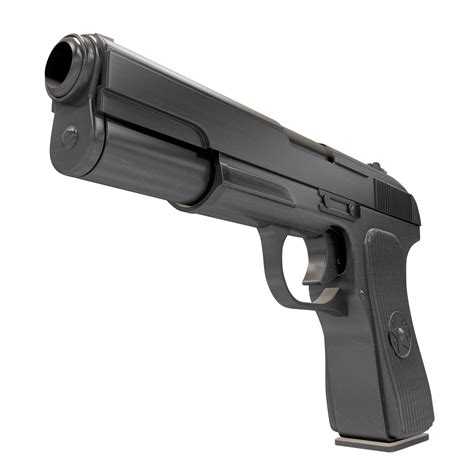gun: (45, 33, 435, 454)
